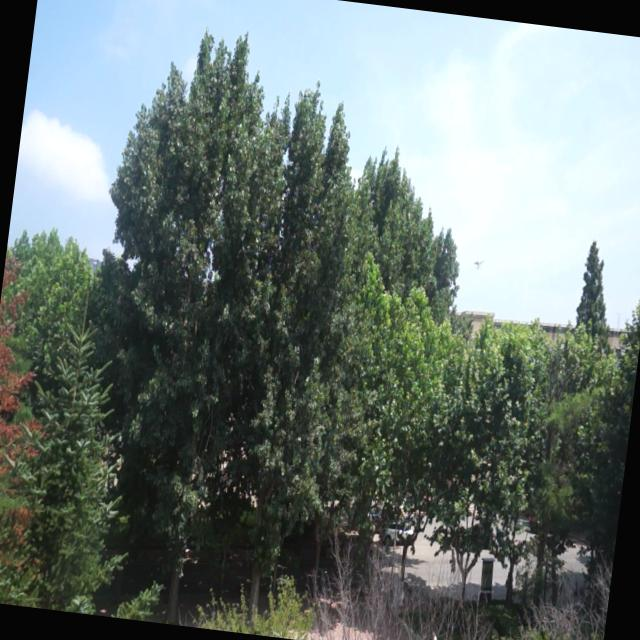drone: (470, 252, 486, 274)
